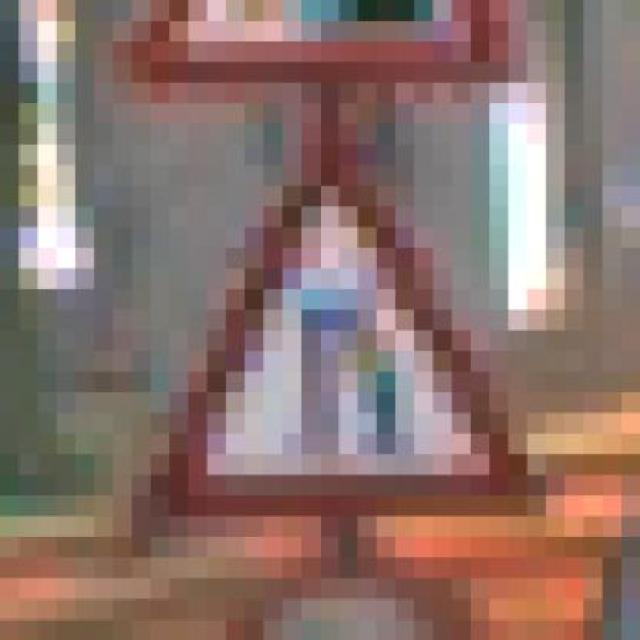-Road narrows on right: (116, 99, 550, 533)
